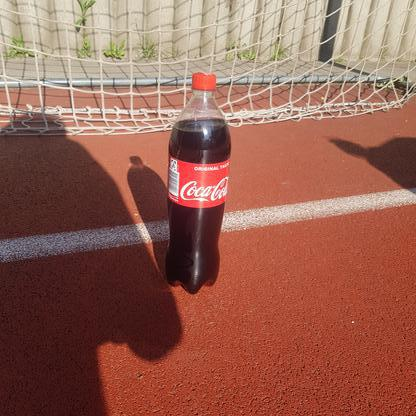coca-cola: (165, 72, 232, 293)
